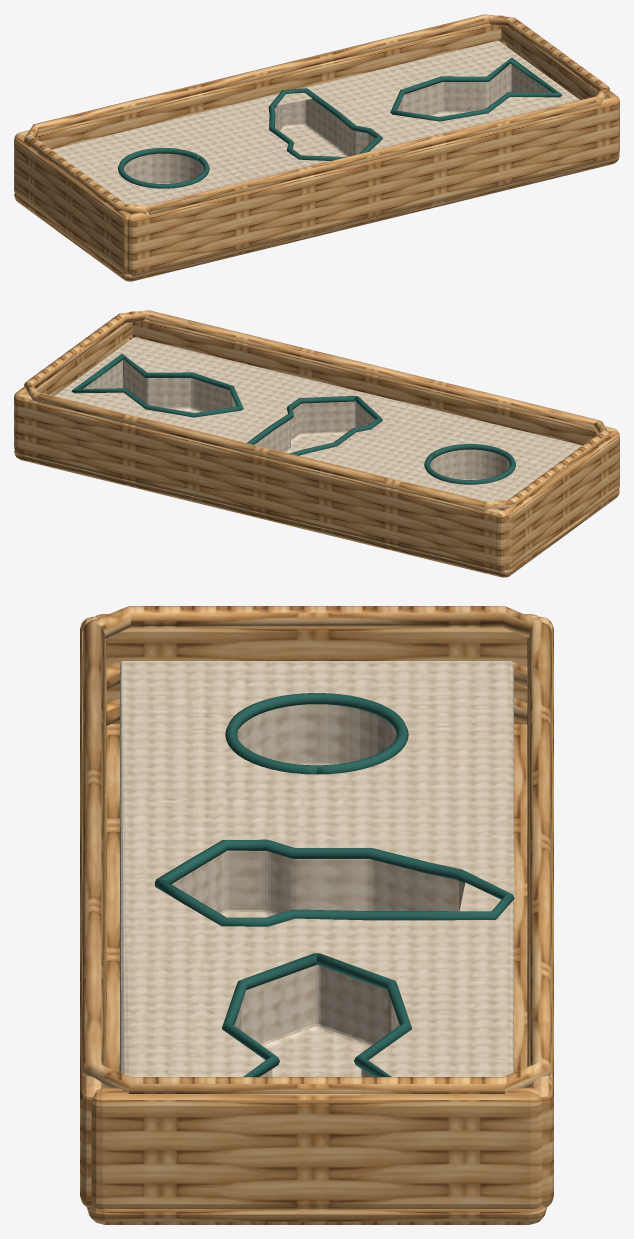
Rendered from basket.glb.
3 views of the same model, one above another, from view 1: azimuth 30°, elevation 25°; view 2: azimuth 150°, elevation 25°; view 3: azimuth 270°, elevation 25° (orthographic). The views are drawn at different scales.
Visible parts, largest first — view 1: Cream fitted insert, Basket side.001, Basket woven rim, Basket side, Basket end.001, Wicker basket base, fish socket piping, Basket end, mouse socket piping, ball socket piping; view 2: Cream fitted insert, Basket side, Basket woven rim, Basket side.001, Basket end.001, Wicker basket base, fish socket piping, Basket end, mouse socket piping, ball socket piping; view 3: Cream fitted insert, Basket end, Basket woven rim, Wicker basket base, Basket end.001, mouse socket piping, fish socket piping, ball socket piping, Basket side, Basket side.001.
Boxes of the visible parts, x1=… form: Cream fitted insert: x1=51, y1=40, x2=579, y2=205; Basket side.001: x1=127, y1=97, x2=619, y2=275; Basket woven rim: x1=24, y1=14, x2=609, y2=214; Basket side: x1=14, y1=15, x2=503, y2=149; Basket end.001: x1=14, y1=135, x2=130, y2=273; Wicker basket base: x1=14, y1=154, x2=619, y2=281; fish socket piping: x1=390, y1=57, x2=562, y2=121; Basket end: x1=501, y1=26, x2=619, y2=150; mouse socket piping: x1=268, y1=88, x2=382, y2=160; ball socket piping: x1=118, y1=148, x2=209, y2=188; Cream fitted insert: x1=54, y1=337, x2=582, y2=501; Basket side: x1=14, y1=393, x2=506, y2=571; Basket woven rim: x1=24, y1=310, x2=609, y2=510; Basket side.001: x1=130, y1=311, x2=619, y2=445; Basket end.001: x1=503, y1=431, x2=619, y2=569; Wicker basket base: x1=14, y1=450, x2=619, y2=577; fish socket piping: x1=71, y1=353, x2=243, y2=417; Basket end: x1=14, y1=322, x2=132, y2=446; mouse socket piping: x1=246, y1=396, x2=382, y2=455; ball socket piping: x1=424, y1=444, x2=515, y2=484; Cream fitted insert: x1=120, y1=661, x2=514, y2=1076; Basket end: x1=91, y1=1087, x2=542, y2=1209; Basket woven rim: x1=82, y1=606, x2=551, y2=1093; Wicker basket base: x1=87, y1=724, x2=546, y2=1224; Basket end.001: x1=95, y1=614, x2=538, y2=724; mouse socket piping: x1=154, y1=839, x2=514, y2=926; fish socket piping: x1=222, y1=953, x2=411, y2=1076; ball socket piping: x1=225, y1=693, x2=408, y2=774; Basket side: x1=527, y1=616, x2=553, y2=1207; Basket side.001: x1=80, y1=616, x2=106, y2=1207.
Size of the model in its own units: 1.72 by 0.242 by 0.71.
3 materials, 2 textured.
